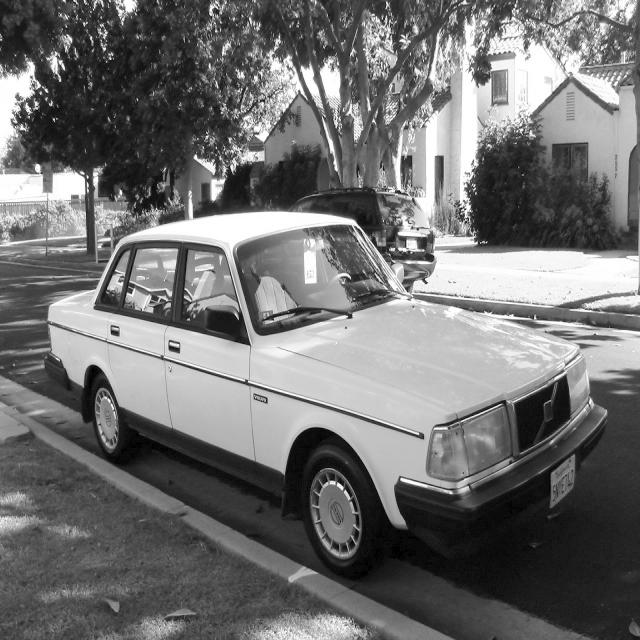car: (43, 209, 609, 575)
plat_license: (548, 452, 576, 508)
